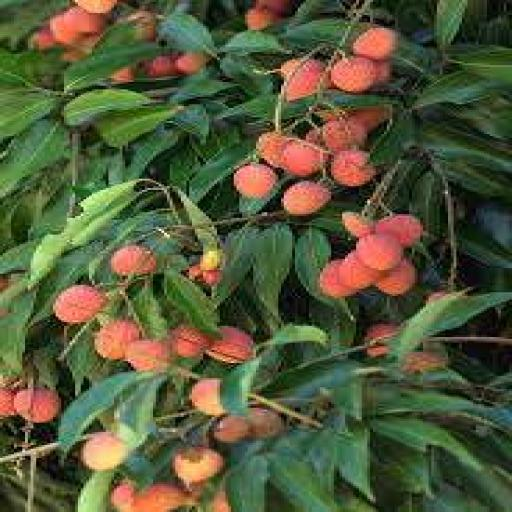lychee: (52, 285, 107, 323), (172, 447, 224, 484), (80, 432, 129, 471), (94, 319, 140, 359), (336, 252, 383, 290), (283, 60, 327, 100), (205, 326, 252, 363), (331, 56, 377, 93), (331, 149, 374, 188), (281, 181, 330, 215), (281, 140, 327, 176), (130, 483, 188, 511), (13, 388, 60, 422), (320, 118, 366, 152), (356, 235, 402, 269), (233, 164, 277, 199), (317, 259, 357, 297), (125, 339, 171, 372), (375, 259, 416, 296), (375, 215, 421, 247), (111, 244, 157, 275), (353, 28, 396, 61), (189, 378, 224, 417), (169, 324, 210, 357), (364, 323, 399, 357), (256, 133, 288, 167), (247, 408, 282, 439), (400, 352, 447, 374), (211, 416, 249, 443), (347, 107, 391, 130), (64, 8, 104, 33), (47, 14, 79, 44), (125, 10, 154, 40), (244, 8, 280, 29), (144, 56, 177, 78), (342, 213, 371, 238), (111, 481, 135, 511), (175, 53, 207, 74), (30, 28, 57, 50), (72, 0, 115, 13), (253, 0, 291, 14), (278, 58, 302, 80), (197, 250, 221, 271), (0, 388, 15, 417), (108, 68, 135, 83), (375, 60, 391, 85), (211, 490, 229, 511), (303, 129, 321, 145), (203, 270, 221, 286), (425, 291, 447, 303), (186, 265, 202, 281)
